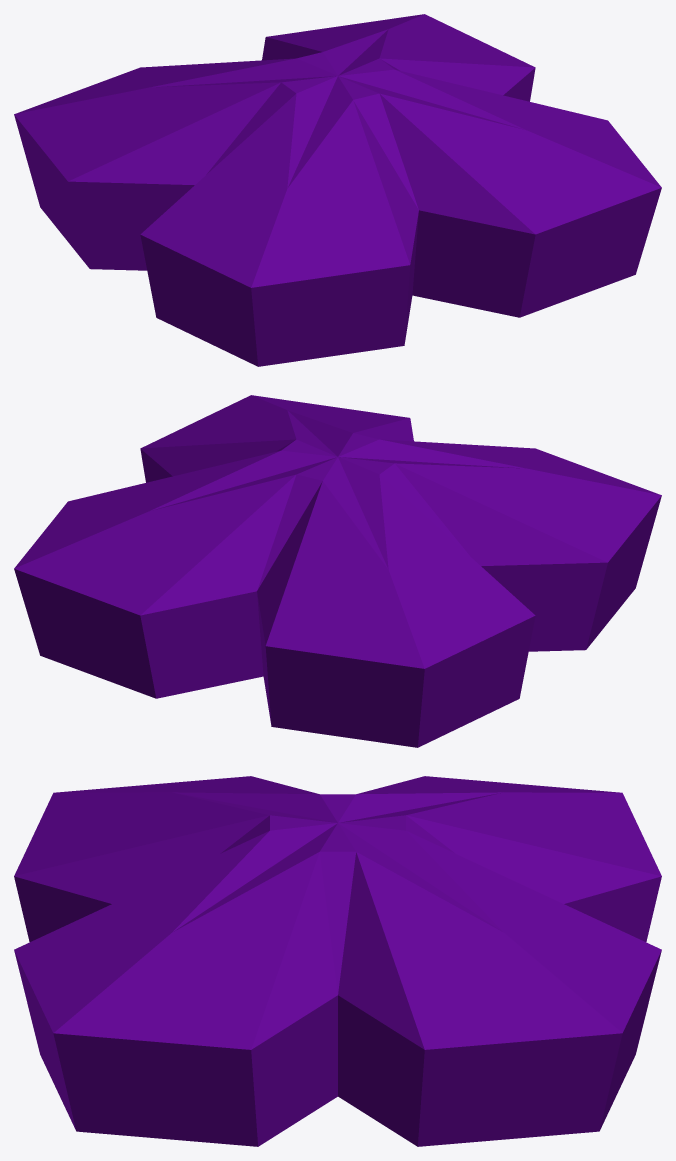
Rendered from 2Ratchet.fbx.
3 views of the same model, one above another, from view 1: azimuth 30°, elevation 25°; view 2: azimuth 150°, elevation 25°; view 3: azimuth 270°, elevation 25° (orthographic). The views are drawn at different scales.
Parts seen in each view (by area): view 1: 2Ratchet; view 2: 2Ratchet; view 3: 2Ratchet.
Boxes of the visible parts, left/top/right/bottom form: 2Ratchet: left=14, top=14, right=661, bottom=366; 2Ratchet: left=14, top=395, right=661, bottom=747; 2Ratchet: left=14, top=776, right=661, bottom=1146.
Bounding box in the file's own units: 368 × 154 × 368.
